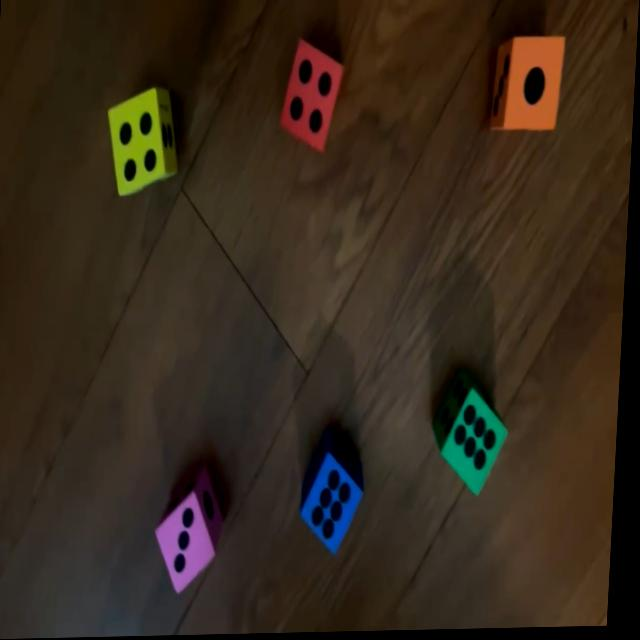blue_block: (301, 432, 370, 559)
red_block: (279, 40, 344, 158)
